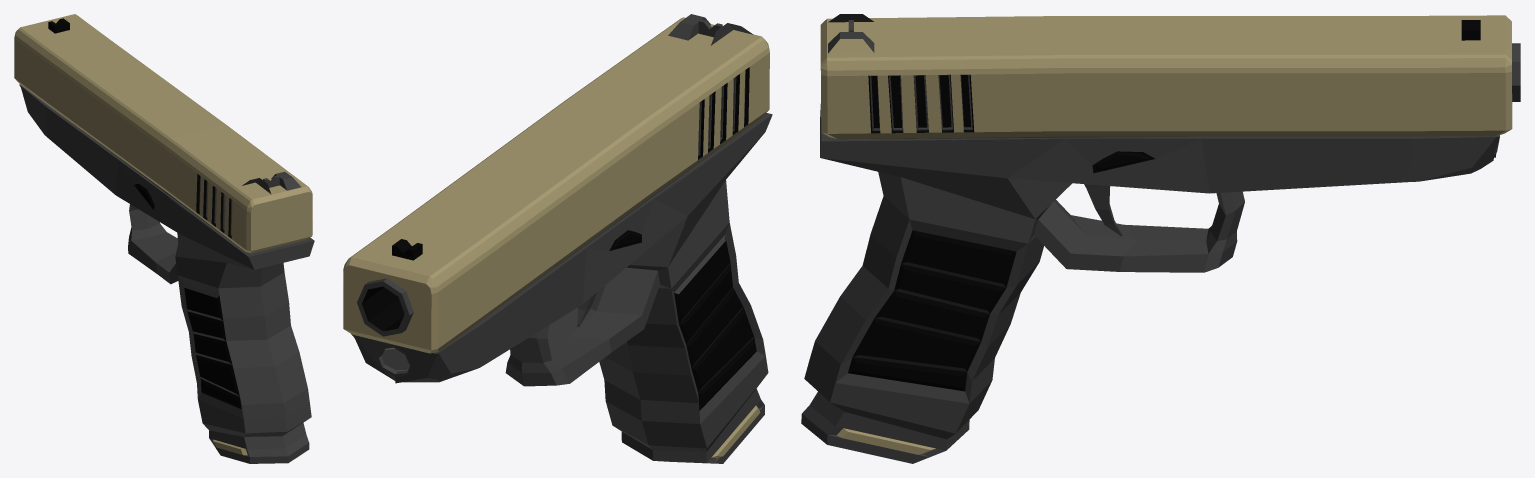
File: Pistola.fbx
The picture shows the model from 3 angles, left to right: view 1: azimuth 30°, elevation 25°; view 2: azimuth 150°, elevation 25°; view 3: azimuth 270°, elevation 25°; orthographic projection. The views are drawn at different scales.
Visible parts, largest first — view 1: Pistola; view 2: Pistola; view 3: Pistola.
Part boxes in pixels (bbox=[...]): Pistola: bbox=[14, 14, 314, 463]; Pistola: bbox=[343, 14, 772, 463]; Pistola: bbox=[801, 14, 1520, 463].
Bounding box in the file's own units: 38.93 × 142 × 221.
